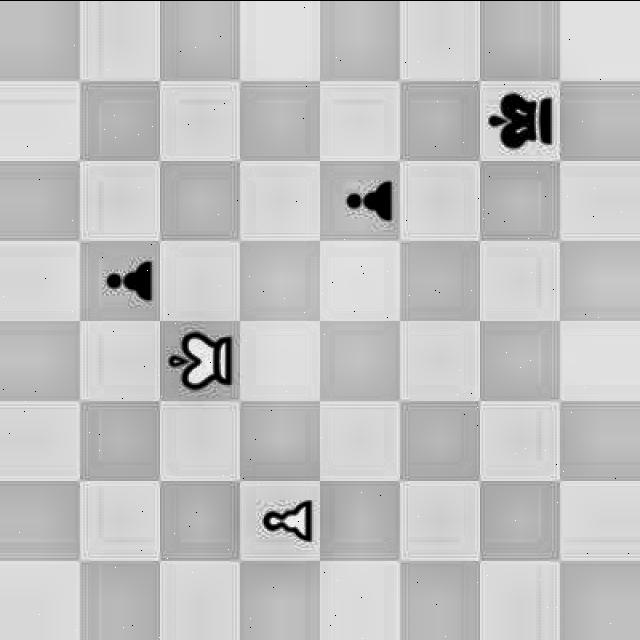black pawn: (314, 162, 401, 235), (478, 88, 556, 158), (86, 248, 162, 316)
white king: (162, 326, 236, 398)
white pawn: (232, 481, 326, 556)
